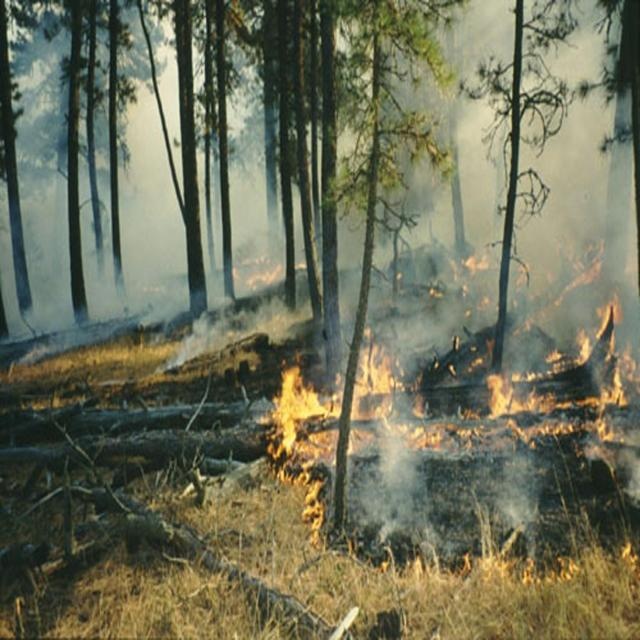fire: (277, 348, 323, 435), (353, 351, 397, 403), (274, 424, 312, 480), (490, 375, 523, 417)
smoke: (368, 414, 560, 564)
